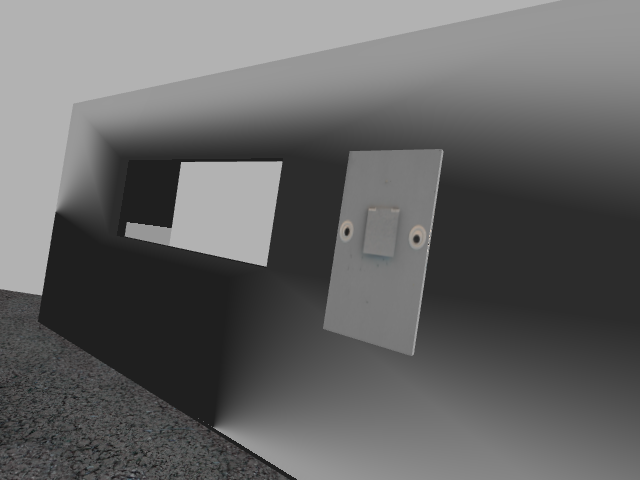facade: (332, 204, 426, 261)
